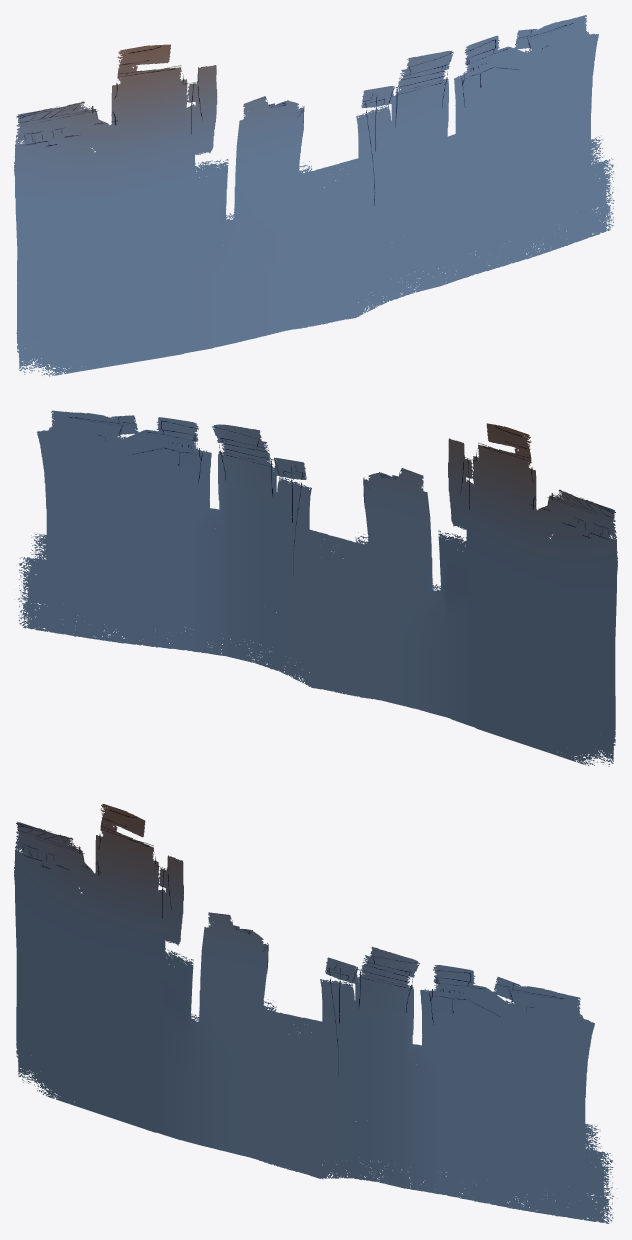
Rendered from 01_back_bld_02.fbx.
3 views of the same model, one above another, from view 1: azimuth 30°, elevation 25°; view 2: azimuth 150°, elevation 25°; view 3: azimuth 330°, elevation 25° (orthographic).
Parts seen in each view (by area): view 1: 房子_遠景_02; view 2: 房子_遠景_02; view 3: 房子_遠景_02.
Boxes of the visible parts, x1,y1,x2,y2 form: 房子_遠景_02: [14, 15, 614, 376]; 房子_遠景_02: [14, 410, 617, 766]; 房子_遠景_02: [14, 804, 617, 1223].
Size of the model in its own units: 912 by 458 by 50.47.
1 material, 1 textured.
